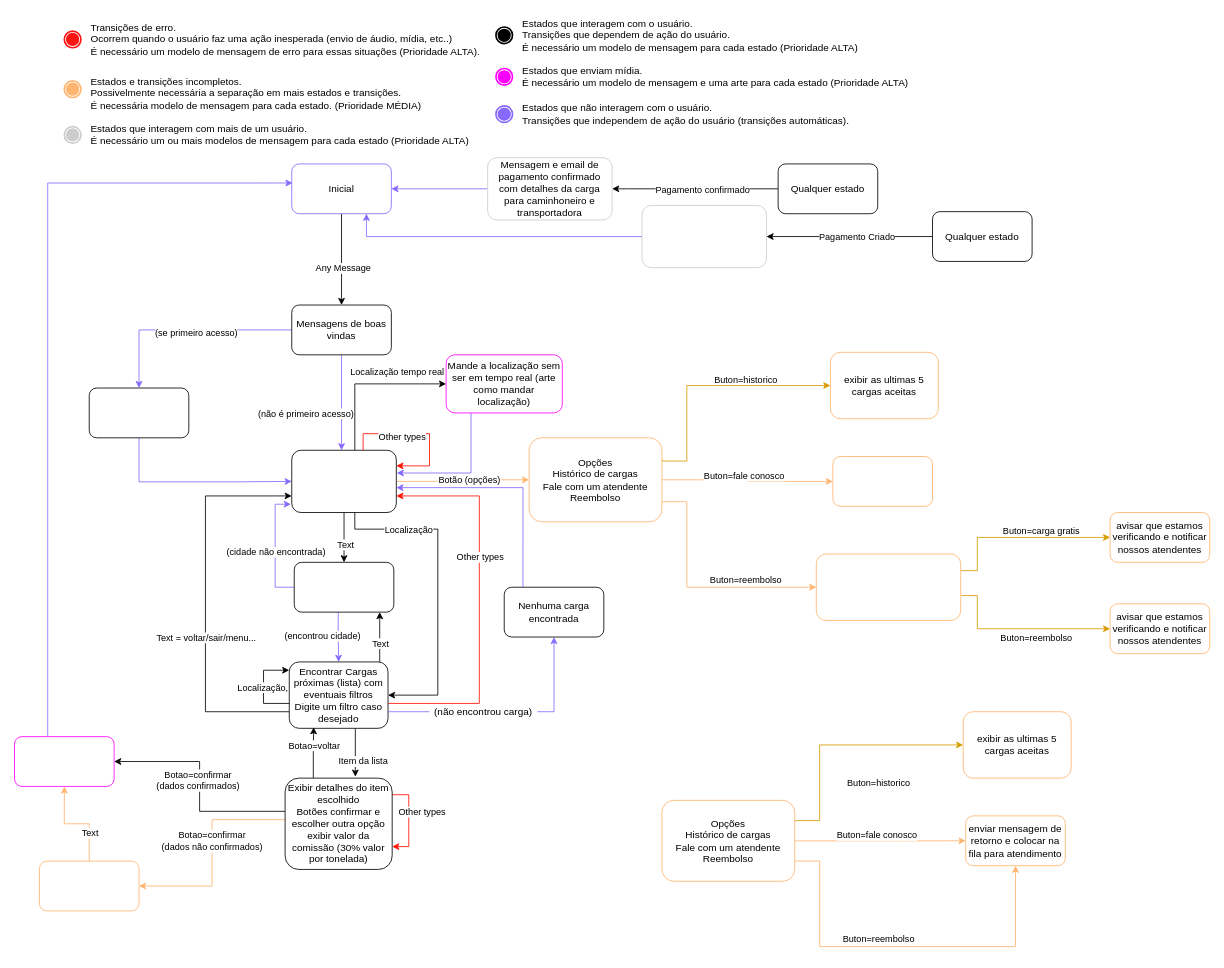
This 1224x968 diagram has some shape labels left out. Each missing label, with the centre of its shape:
"Buscar cidade digitada" belongs at point 343,586.
"Confirmar dados (nome, cpf e email)" belongs at point 89,885.
"Enviar link de pagamento (arte no link de pagamento)" belongs at point 64,761.
"enviar mensagem de retorno e enviar o contato a um dos nossos atendentes" belongs at point 882,481.
"Enviar Termos de Uso e Política de Privacidade" belongs at point 138,412.
"Mensagem de ação, pedir localização, cidade estado e botão de mais opções" belongs at point 343,481.
"Mensagem e email de pagamento criado (pix/boleto/cartao) e logo sera confirmado" belongs at point 704,236.
"Opções -aceitar uma carga grátis -reembolsar ultimo pagamento" belongs at point 888,586.
